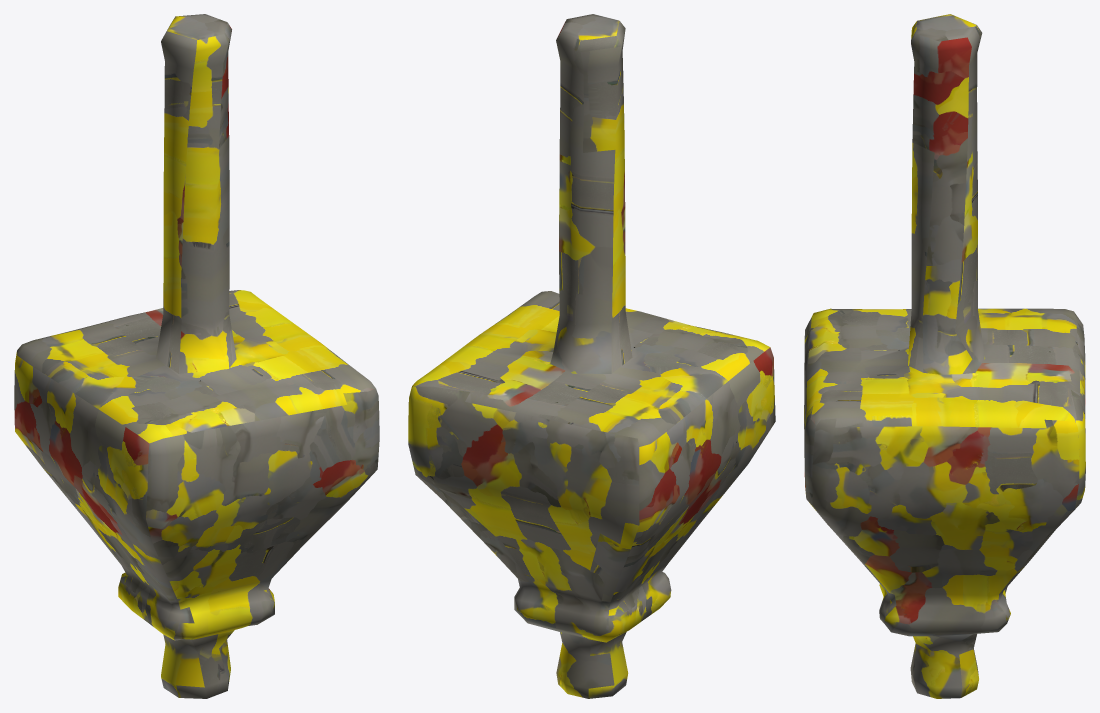
The model's file is ChickenFeederFunnel_1120193402_texture.fbx.
The picture shows the model from 3 angles, left to right: view 1: azimuth 30°, elevation 25°; view 2: azimuth 150°, elevation 25°; view 3: azimuth 270°, elevation 25°; orthographic projection.
Visible parts, largest first — view 1: Mesh0; view 2: Mesh0; view 3: Mesh0.
Part boxes in pixels (x1,y1,x2,y2): Mesh0: (14,14,379,698); Mesh0: (408,14,775,698); Mesh0: (804,14,1085,698).
Size of the model in its own units: 74.16 by 192 by 73.98.
